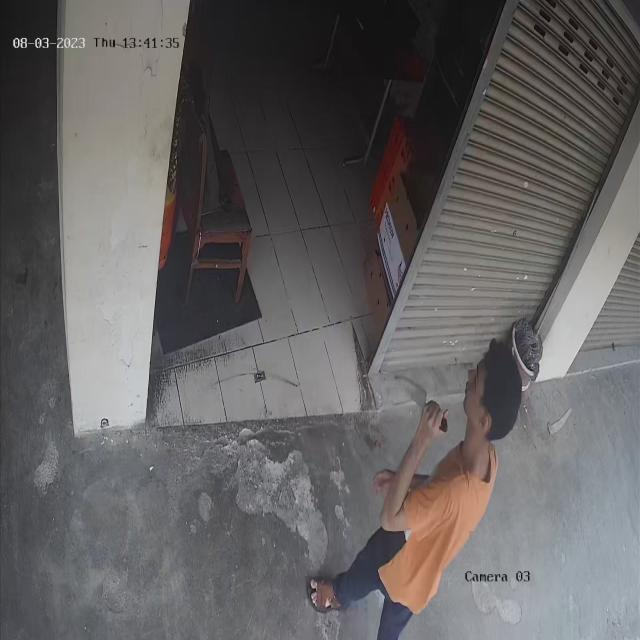Knife: (391, 344, 453, 432)
